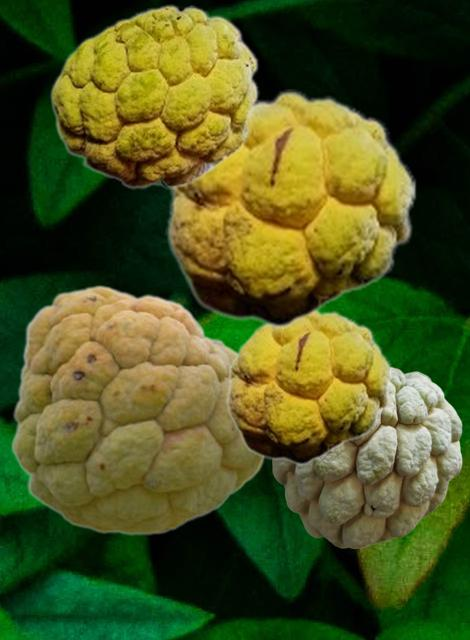atis: (10, 284, 266, 534), (165, 89, 416, 327), (49, 4, 258, 188), (271, 367, 461, 547), (225, 307, 392, 464)
